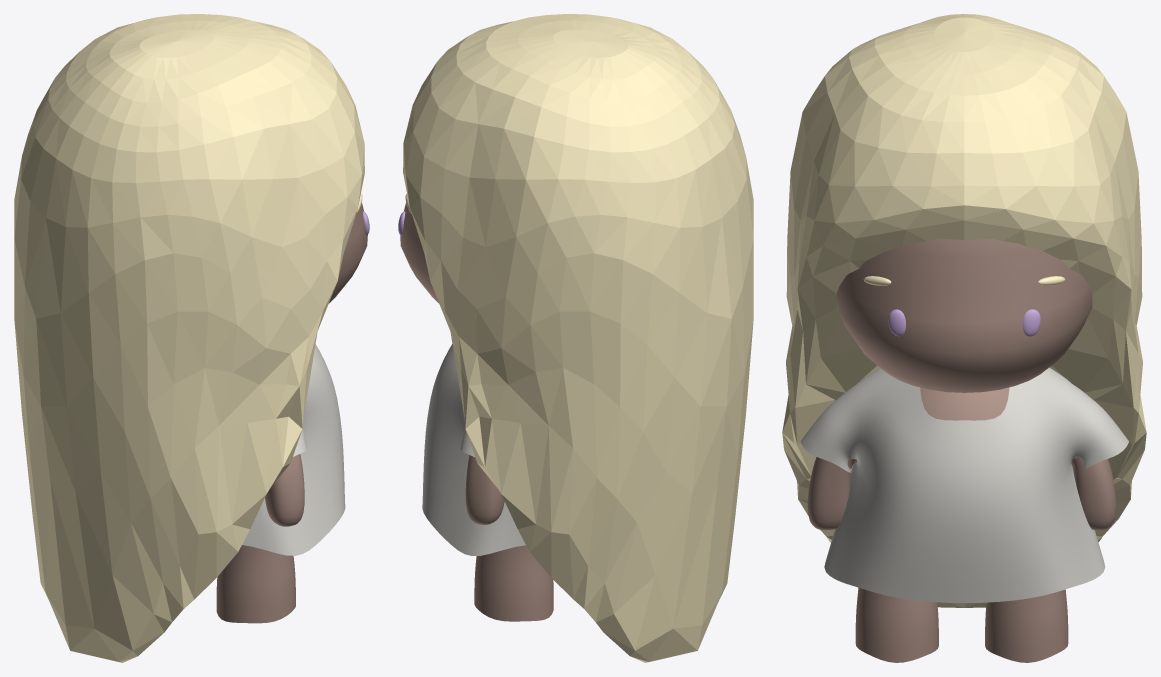
File: doll.dae
3 views of the same model, side by side, from view 1: azimuth 30°, elevation 25°; view 2: azimuth 150°, elevation 25°; view 3: azimuth 270°, elevation 25° (orthographic). The views are drawn at different scales.
Parts seen in each view (by area): view 1: Sphere.003, Cube.014, Cube.003, Sphere.004; view 2: Sphere.003, Cube.014, Cube.003, Sphere.004; view 3: Sphere.003, Cube.014, Sphere.004, Cube.003.
Boxes of the visible parts, <box> form: Sphere.003: <box>14,14,364,662</box>; Cube.014: <box>242,344,345,555</box>; Cube.003: <box>216,454,304,623</box>; Sphere.004: <box>329,203,367,303</box>; Sphere.003: <box>403,14,753,662</box>; Cube.014: <box>422,344,525,555</box>; Cube.003: <box>465,455,553,621</box>; Sphere.004: <box>400,203,438,303</box>; Sphere.003: <box>782,14,1146,607</box>; Cube.014: <box>800,367,1128,603</box>; Sphere.004: <box>836,238,1092,392</box>; Cube.003: <box>807,387,1116,662</box>.
Size of the model in its own units: 0.3147 by 0.2961 by 0.5537.
8 materials, 8 textured.
